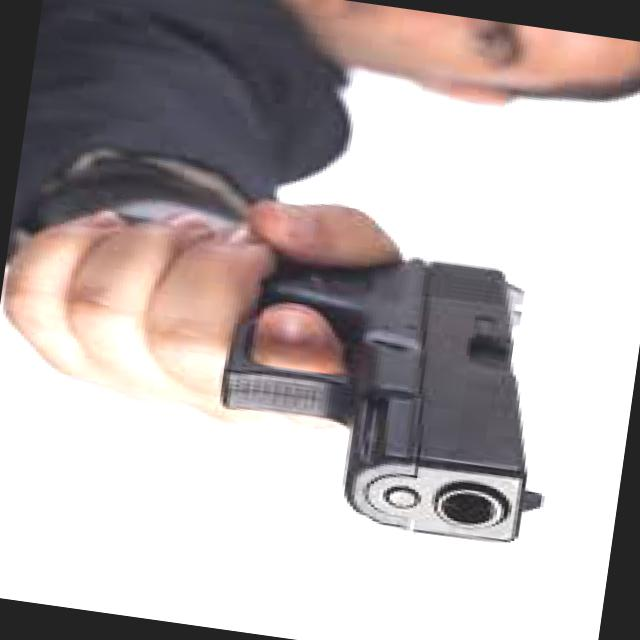handgun: (34, 160, 595, 556)
